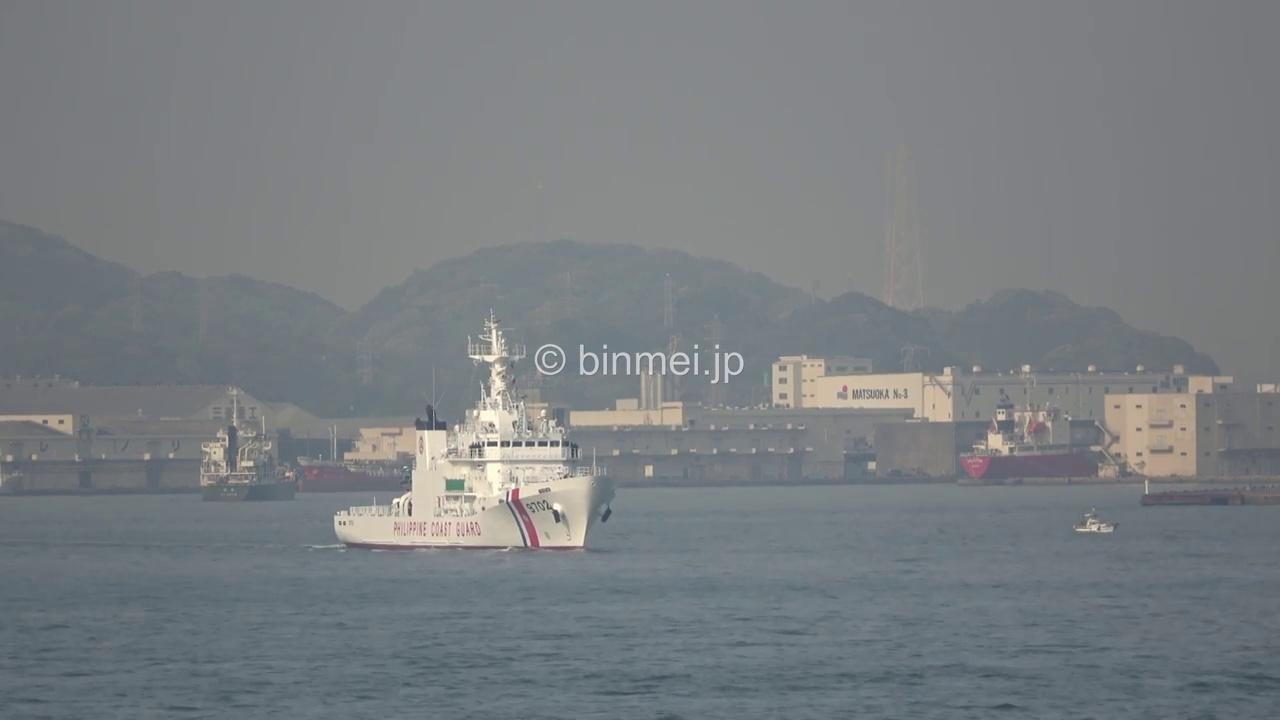Ship: (314, 351, 619, 555), (1076, 519, 1118, 535)
